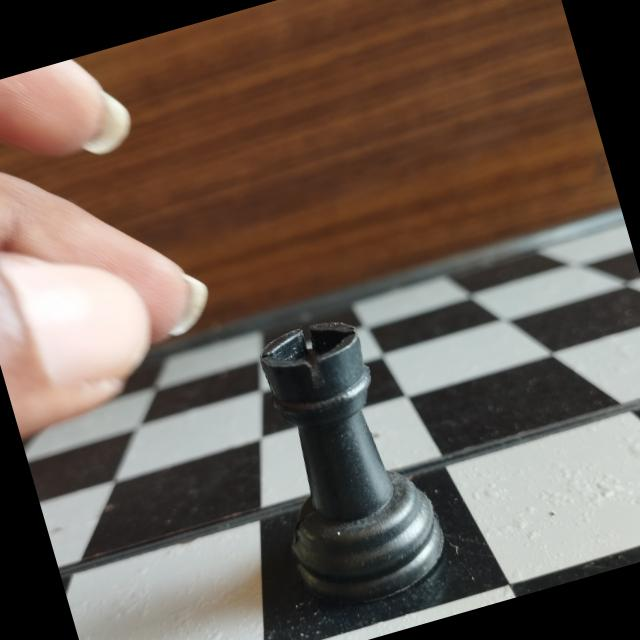Black Rook: (225, 294, 463, 626)
